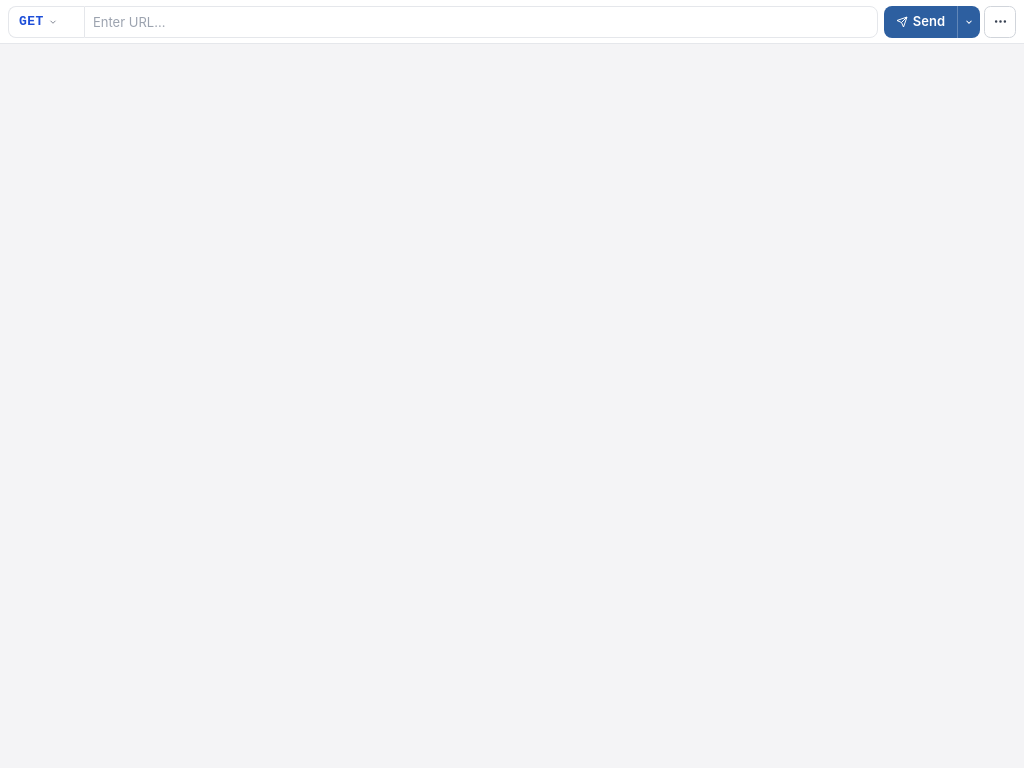
Test: compact layout (issue #251) › closes on an outside mousedown
Click the button with test id "url-more-btn" at (1000, 22), box [984,6,1016,38]
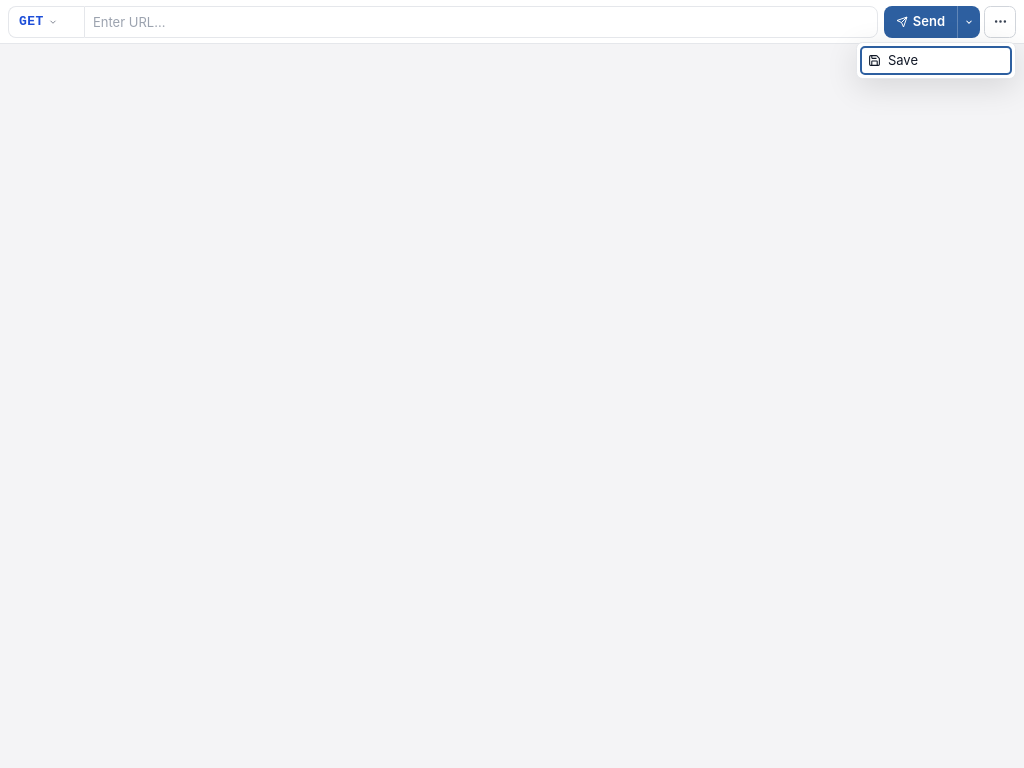
Now the menu with test id "url-more-menu" is shown, box [856,42,1016,79]
Press the mouse on the element showing "GET Send Save" at (512, 384), box [0,0,1023,767]
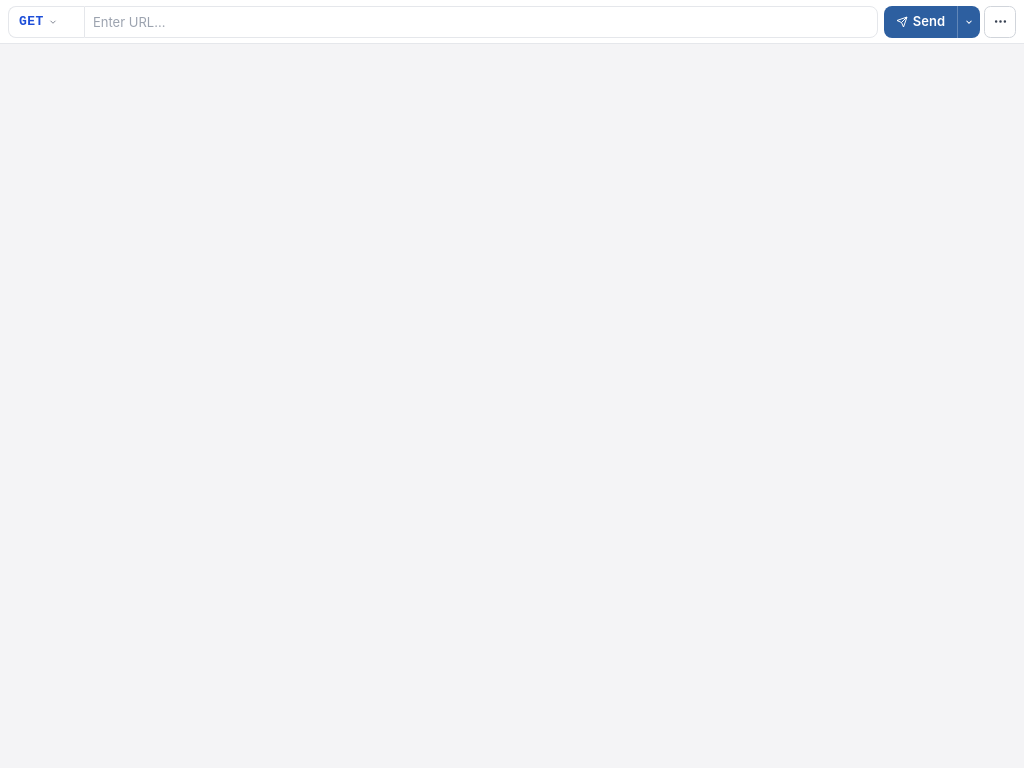
Now the menu with test id "url-more-menu" is gone
